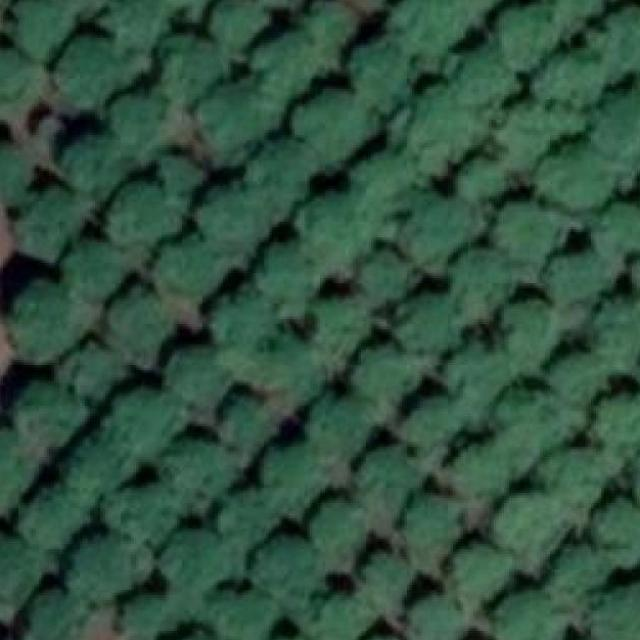Tree: (381, 84, 493, 173), (496, 386, 581, 472), (348, 153, 432, 235), (192, 84, 281, 158), (406, 196, 488, 276), (499, 99, 585, 175), (152, 35, 240, 107), (487, 488, 566, 566), (156, 439, 242, 510), (540, 135, 617, 213), (351, 41, 429, 114), (57, 36, 133, 110), (13, 191, 91, 263), (298, 97, 380, 165), (297, 191, 369, 268), (247, 140, 326, 210), (162, 529, 239, 600), (540, 442, 610, 519), (208, 288, 282, 360), (103, 383, 180, 452), (154, 235, 234, 298), (70, 532, 143, 601), (392, 0, 501, 46), (103, 482, 180, 546), (202, 186, 284, 246), (254, 240, 323, 310), (251, 28, 317, 101), (443, 46, 520, 108), (57, 437, 127, 505), (8, 280, 72, 354), (259, 329, 322, 403), (499, 199, 571, 263), (487, 9, 564, 68), (448, 245, 521, 307), (18, 383, 89, 445), (255, 526, 315, 598), (100, 0, 183, 52), (538, 250, 615, 306), (21, 488, 90, 550), (400, 491, 461, 561), (304, 394, 375, 454), (108, 181, 174, 245), (305, 293, 368, 360), (443, 334, 509, 397), (259, 447, 328, 507), (165, 348, 230, 411), (216, 488, 278, 554), (354, 345, 423, 404), (3, 0, 74, 57), (197, 590, 277, 640), (64, 140, 130, 200), (52, 342, 122, 398), (589, 493, 640, 568), (59, 246, 127, 300), (502, 296, 555, 364), (445, 539, 505, 599), (588, 391, 640, 460), (0, 432, 39, 524), (532, 56, 603, 106), (110, 291, 171, 349), (356, 450, 420, 503), (359, 250, 419, 306), (23, 585, 84, 640), (586, 12, 640, 74), (400, 296, 463, 349), (591, 92, 640, 160), (547, 542, 605, 599), (552, 353, 611, 409), (453, 433, 508, 493), (494, 590, 559, 640), (305, 590, 367, 640), (406, 393, 462, 448), (312, 501, 371, 553), (123, 590, 182, 640), (601, 299, 640, 373), (302, 0, 358, 50), (110, 96, 169, 143), (404, 593, 462, 640), (455, 160, 515, 204), (207, 0, 268, 41), (0, 532, 34, 602), (152, 150, 202, 197), (596, 204, 640, 256), (218, 400, 269, 444), (598, 590, 640, 640), (0, 48, 33, 110), (545, 0, 615, 28), (359, 552, 404, 591), (0, 138, 28, 200), (166, 0, 222, 25), (51, 0, 114, 18), (626, 453, 640, 512), (166, 625, 221, 640), (348, 0, 391, 14), (256, 0, 304, 10), (629, 255, 640, 298), (262, 633, 316, 640), (359, 633, 413, 640), (0, 627, 21, 640), (634, 79, 640, 102)
